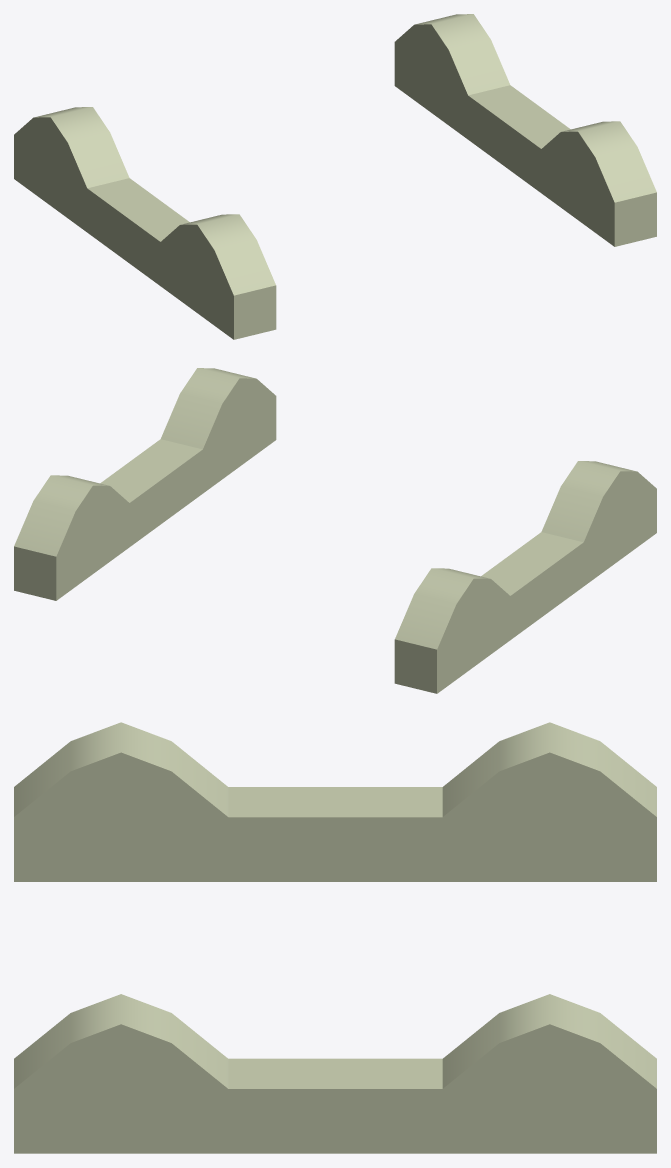
The model's file is prop_m_avionics_s0_1_skid.obj.
3 renders of one model, top to bottom at view 1: azimuth 30°, elevation 25°; view 2: azimuth 150°, elevation 25°; view 3: azimuth 270°, elevation 25°, orthographic. The views are drawn at different scales.
Visible parts, largest first — view 1: mesh1; view 2: mesh1; view 3: mesh1.
Boxes of the visible parts, <box> form: mesh1: <box>14,14,656,339</box>; mesh1: <box>14,368,656,693</box>; mesh1: <box>14,722,656,1153</box>.
Bounding box in the file's own units: 0.25 × 0.05 × 0.225.
